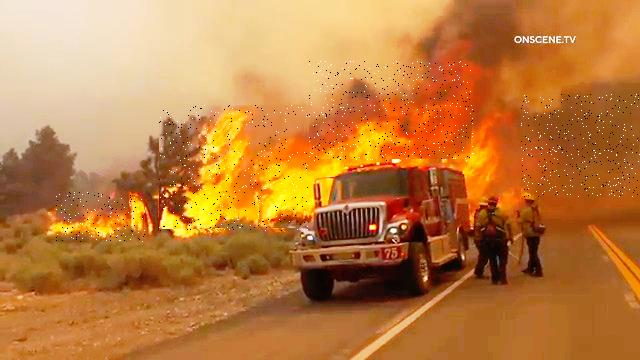fire: (160, 106, 309, 232), (309, 62, 474, 162), (56, 192, 145, 242)
smoke: (521, 94, 640, 197), (586, 138, 587, 150)
